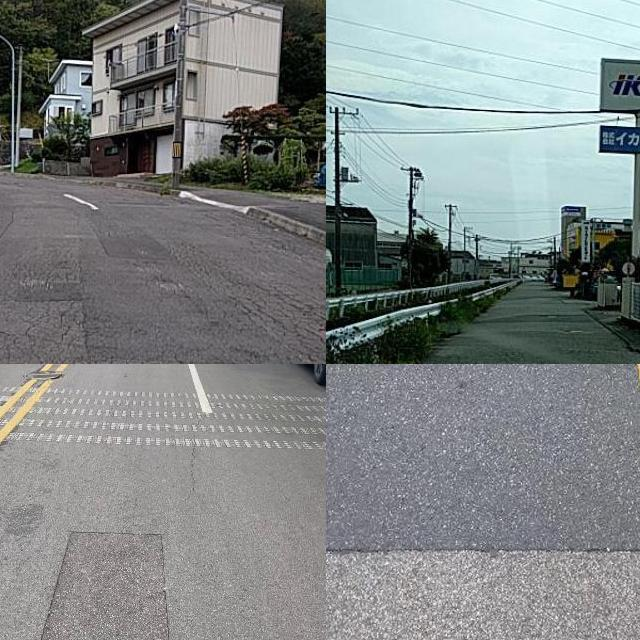Retak Buaya: (162, 270, 326, 364)
Sambungan: (326, 364, 640, 565), (39, 530, 171, 640)
